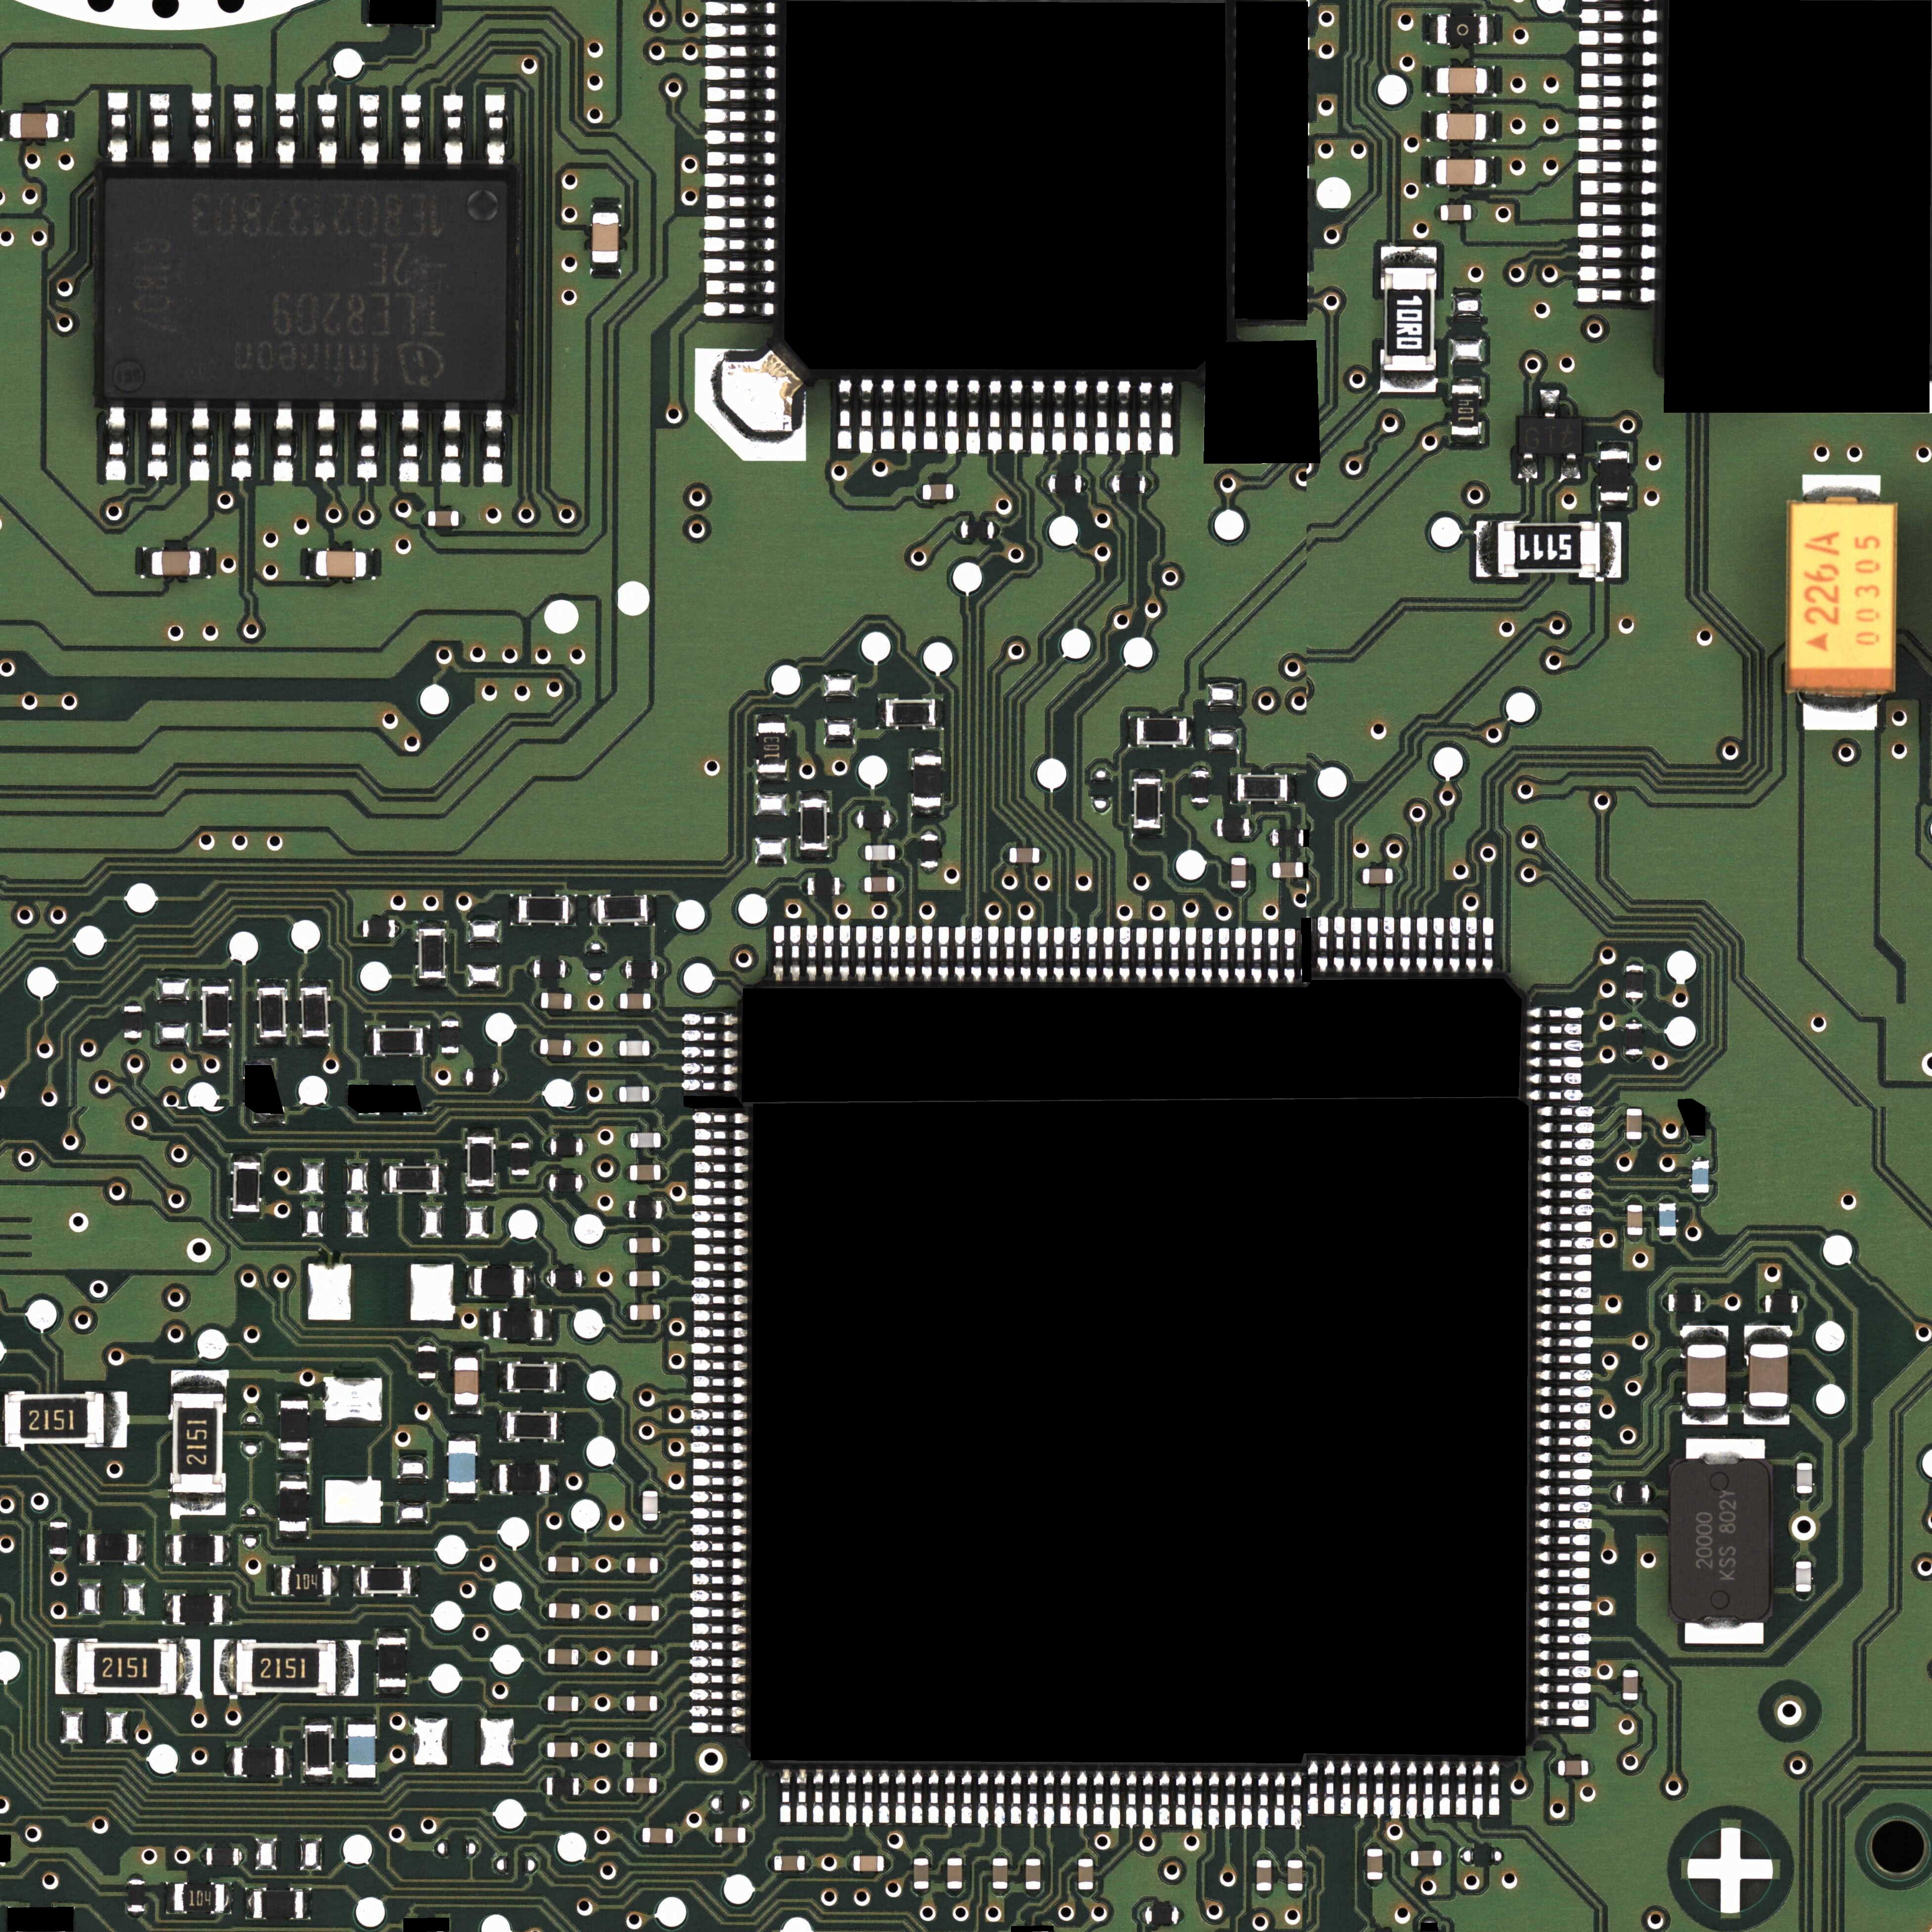Package: (106, 180, 508, 402), (1789, 504, 1897, 692), (1668, 1460, 1771, 1621), (1382, 269, 1435, 372), (1499, 522, 1599, 575), (5, 1392, 103, 1447), (237, 1642, 336, 1693), (172, 1394, 223, 1493), (78, 1642, 177, 1693), (1748, 1345, 1789, 1407), (1686, 1345, 1727, 1407), (1518, 418, 1582, 453), (448, 1440, 476, 1493), (757, 722, 786, 773), (913, 755, 941, 807), (1437, 16, 1488, 44), (1451, 384, 1479, 435), (349, 1725, 375, 1778), (87, 1534, 136, 1562), (494, 1311, 543, 1339), (280, 1481, 308, 1530), (379, 1637, 407, 1686), (280, 1401, 308, 1451), (474, 1269, 524, 1297), (1599, 451, 1628, 501), (173, 1884, 225, 1911), (317, 550, 366, 577), (800, 800, 826, 849), (593, 212, 619, 262), (281, 1568, 331, 1594), (234, 1748, 283, 1775), (373, 1028, 423, 1054), (253, 1891, 303, 1918), (499, 1465, 548, 1491), (173, 1536, 223, 1562), (202, 985, 228, 1035), (467, 1136, 494, 1185), (173, 1596, 223, 1622), (508, 1414, 557, 1440), (258, 987, 285, 1037), (301, 987, 327, 1037), (508, 1364, 557, 1391), (234, 1162, 260, 1212), (1238, 775, 1288, 801), (1138, 718, 1187, 745), (1437, 67, 1486, 94), (1134, 778, 1161, 828), (1437, 113, 1486, 140), (9, 113, 58, 138), (419, 929, 444, 978), (598, 897, 648, 922), (518, 897, 568, 922), (886, 701, 936, 725), (361, 1568, 410, 1592), (389, 1166, 439, 1191), (306, 1725, 331, 1775), (1437, 159, 1486, 184), (152, 550, 200, 575), (455, 1359, 478, 1405), (807, 876, 840, 895), (628, 1200, 662, 1219), (1113, 474, 1146, 494), (1624, 964, 1644, 998), (418, 1346, 437, 1378), (920, 835, 939, 867), (1049, 474, 1081, 494), (961, 520, 994, 538), (533, 961, 566, 978), (124, 1005, 142, 1039), (465, 1069, 499, 1086), (1145, 1905, 1178, 1923), (858, 810, 890, 828), (626, 1649, 658, 1667), (550, 1173, 582, 1191), (511, 1143, 529, 1175), (50, 1522, 67, 1553), (127, 1879, 145, 1911), (550, 1138, 582, 1155), (547, 1776, 579, 1794), (207, 1847, 239, 1865), (626, 961, 658, 978), (441, 1021, 458, 1053), (363, 920, 395, 938), (1191, 771, 1208, 803), (1217, 819, 1249, 837), (1668, 1293, 1700, 1311), (1691, 1161, 1709, 1192), (1617, 1484, 1649, 1502), (1624, 1023, 1642, 1054), (1766, 1295, 1798, 1313), (1272, 830, 1304, 847), (1660, 1203, 1675, 1237), (428, 510, 458, 527), (626, 1741, 656, 1759), (619, 993, 651, 1008), (922, 485, 954, 501), (863, 876, 895, 892), (853, 1856, 885, 1872), (993, 1858, 1008, 1890), (540, 1039, 571, 1054), (550, 1270, 582, 1286), (626, 1695, 658, 1711), (626, 1557, 658, 1573), (547, 1741, 579, 1757), (1008, 847, 1040, 863), (947, 1858, 962, 1890), (1410, 1851, 1442, 1867), (1256, 1859, 1272, 1891), (1626, 1108, 1642, 1139), (541, 993, 571, 1008), (865, 844, 895, 860), (630, 1270, 660, 1286), (630, 1237, 660, 1253), (913, 1858, 929, 1888), (630, 1304, 660, 1320), (548, 1603, 579, 1619), (628, 1605, 658, 1621), (548, 1557, 579, 1573), (548, 1649, 579, 1665), (619, 1040, 649, 1056), (619, 1086, 649, 1102), (715, 1828, 745, 1844), (630, 1164, 660, 1180), (626, 1778, 656, 1794), (630, 1132, 660, 1148), (642, 1491, 658, 1522), (642, 1828, 672, 1844), (1440, 205, 1470, 221), (1362, 869, 1392, 885), (1368, 1849, 1384, 1879), (1559, 1760, 1589, 1776), (1077, 1859, 1093, 1890), (1796, 1562, 1812, 1592), (1628, 1205, 1644, 1235), (1796, 1463, 1812, 1493), (1622, 1670, 1638, 1700), (1288, 1859, 1302, 1891), (1272, 863, 1304, 878), (775, 1856, 805, 1870), (548, 1697, 579, 1711), (1231, 858, 1246, 888), (1026, 1859, 1040, 1890)
Solder: (695, 347, 805, 464), (1803, 695, 1877, 731), (1803, 474, 1881, 502), (1684, 1621, 1764, 1644), (1686, 1438, 1766, 1460), (442, 92, 464, 168), (104, 405, 126, 481), (317, 92, 338, 166), (191, 92, 212, 166), (400, 92, 421, 166), (108, 90, 129, 165), (359, 94, 380, 166), (485, 94, 506, 166), (442, 407, 462, 485), (483, 407, 502, 485), (274, 407, 294, 483), (400, 407, 419, 483), (150, 92, 170, 166), (234, 92, 253, 166), (232, 407, 251, 481), (149, 407, 168, 481), (276, 92, 295, 166), (317, 407, 336, 481), (357, 407, 377, 479), (191, 407, 209, 483), (177, 1638, 200, 1697), (336, 1640, 359, 1697), (170, 1493, 226, 1516), (104, 1391, 127, 1447), (172, 1369, 226, 1392), (1580, 180, 1658, 196), (1578, 244, 1656, 260), (1578, 265, 1656, 281), (55, 1638, 76, 1695), (1380, 372, 1437, 393), (1476, 520, 1497, 577), (214, 1640, 235, 1695), (1380, 246, 1437, 265), (1582, 9, 1660, 23), (1580, 30, 1658, 44), (1582, 51, 1660, 65), (1580, 115, 1658, 129), (1580, 94, 1658, 108), (1580, 73, 1658, 87), (1578, 202, 1656, 216), (1578, 223, 1656, 237), (1580, 138, 1658, 152), (1578, 159, 1656, 173), (1578, 288, 1656, 303), (1053, 379, 1067, 455), (1074, 379, 1088, 455), (1601, 522, 1621, 577), (1159, 380, 1173, 455), (1138, 380, 1152, 455), (1116, 380, 1131, 455), (1095, 380, 1109, 455), (1031, 379, 1046, 453), (987, 379, 1001, 453), (966, 379, 980, 453), (945, 379, 959, 453), (902, 379, 916, 453), (860, 379, 874, 453), (924, 379, 938, 451), (704, 280, 777, 294), (837, 379, 851, 449), (706, 2, 777, 16), (706, 23, 777, 37), (706, 44, 777, 58), (706, 65, 777, 80), (706, 87, 777, 101), (706, 108, 777, 122), (706, 129, 777, 143), (706, 150, 777, 165), (704, 173, 775, 188), (704, 195, 775, 209), (706, 216, 777, 230), (706, 237, 777, 251), (1681, 1325, 1729, 1345), (1010, 379, 1023, 453), (704, 260, 777, 272), (704, 303, 777, 315), (881, 379, 893, 449), (1744, 1325, 1792, 1343), (1744, 1407, 1790, 1424), (1683, 1407, 1729, 1424), (692, 1343, 748, 1357), (692, 1309, 748, 1323), (683, 1062, 738, 1076), (694, 1161, 748, 1175), (694, 1210, 748, 1224), (692, 1359, 747, 1373), (694, 1293, 748, 1307), (692, 1507, 747, 1522), (692, 1573, 747, 1587), (692, 1622, 747, 1637), (692, 1474, 747, 1488), (694, 1490, 747, 1504), (1109, 1771, 1122, 1829), (692, 1228, 748, 1240), (692, 1327, 748, 1339), (690, 1640, 747, 1652), (690, 1656, 747, 1668), (692, 1442, 748, 1454), (872, 925, 885, 982), (888, 925, 901, 982), (987, 925, 1000, 982), (1118, 925, 1131, 982), (1152, 925, 1164, 982), (1235, 927, 1247, 984), (1449, 916, 1461, 973), (1537, 1171, 1594, 1184), (1537, 1187, 1594, 1200), (1536, 1320, 1592, 1332), (1536, 1451, 1592, 1463), (1536, 1500, 1592, 1513), (1534, 1583, 1591, 1596), (683, 1014, 738, 1026), (683, 1030, 738, 1042), (683, 1046, 738, 1058), (683, 1079, 738, 1092), (694, 1113, 748, 1125), (694, 1129, 748, 1141), (694, 1145, 748, 1157), (694, 1178, 748, 1191), (694, 1261, 748, 1274), (694, 1244, 748, 1256), (694, 1194, 748, 1207), (692, 1376, 747, 1389), (692, 1392, 747, 1405), (692, 1408, 747, 1421), (692, 1426, 747, 1438), (694, 1277, 748, 1290), (692, 1525, 747, 1537), (692, 1541, 747, 1553), (692, 1557, 747, 1569), (692, 1591, 747, 1603), (692, 1606, 747, 1619), (692, 1674, 747, 1686), (692, 1458, 747, 1470), (692, 1690, 747, 1702), (692, 1706, 747, 1718), (692, 1723, 747, 1736), (961, 1769, 973, 1824), (1060, 1769, 1072, 1824), (1274, 1771, 1286, 1826), (1537, 1221, 1592, 1233), (1537, 1286, 1592, 1299), (1537, 1336, 1592, 1348), (1537, 1484, 1592, 1497), (1536, 1633, 1591, 1645), (1536, 1534, 1591, 1546), (1339, 1760, 1352, 1813), (846, 1767, 856, 1826), (863, 1767, 874, 1826), (945, 1769, 955, 1828), (978, 1769, 989, 1828), (994, 1769, 1005, 1828), (1127, 1771, 1138, 1829), (1143, 1771, 1154, 1829), (1224, 1771, 1235, 1829), (1208, 1771, 1219, 1829), (1192, 1771, 1203, 1829), (1242, 1771, 1253, 1829), (1258, 1771, 1269, 1829), (1391, 1760, 1401, 1819), (1407, 1760, 1417, 1819), (1373, 1760, 1384, 1819), (1357, 1760, 1368, 1819), (1422, 1760, 1433, 1819), (1472, 1760, 1483, 1819), (1028, 1771, 1039, 1828), (1044, 1771, 1054, 1828), (1077, 1771, 1088, 1828), (1292, 1773, 1302, 1829), (773, 925, 784, 982), (789, 925, 800, 982), (807, 925, 817, 982), (823, 925, 833, 982), (840, 925, 851, 982), (856, 925, 867, 982), (1005, 925, 1016, 982), (971, 925, 982, 982), (954, 925, 964, 982), (938, 925, 948, 982), (922, 925, 932, 982), (906, 925, 916, 982), (1021, 925, 1031, 982), (1037, 925, 1047, 982), (1053, 925, 1063, 982), (1070, 925, 1081, 982), (1086, 925, 1097, 982), (1102, 925, 1113, 982), (1136, 925, 1146, 982), (1169, 927, 1180, 984), (1185, 925, 1196, 982), (1269, 927, 1279, 984), (1201, 927, 1212, 984), (1219, 927, 1230, 984), (1253, 927, 1263, 984), (1284, 927, 1295, 984), (1334, 916, 1345, 973), (1350, 916, 1361, 973), (1368, 916, 1378, 973), (1384, 916, 1394, 973), (1399, 916, 1410, 973), (1318, 916, 1329, 973), (1417, 916, 1428, 973), (1433, 916, 1444, 973), (1467, 916, 1477, 973), (1483, 916, 1493, 973), (1527, 1040, 1583, 1051), (1527, 1056, 1583, 1067), (1537, 1106, 1594, 1116), (1537, 1123, 1594, 1134), (1537, 1139, 1594, 1150), (1537, 1155, 1594, 1166), (1537, 1205, 1594, 1215), (1536, 1254, 1592, 1265), (1536, 1468, 1592, 1479), (1536, 1385, 1592, 1396), (1536, 1403, 1592, 1414), (1536, 1435, 1592, 1445), (1534, 1568, 1591, 1578), (1534, 1601, 1591, 1612), (1534, 1617, 1591, 1628), (1534, 1651, 1591, 1661), (1534, 1684, 1591, 1695), (1534, 1716, 1591, 1727), (780, 1767, 791, 1822), (796, 1767, 807, 1822), (814, 1767, 824, 1822), (830, 1767, 840, 1822), (895, 1769, 906, 1824), (911, 1769, 922, 1824), (929, 1769, 939, 1824), (1010, 1769, 1021, 1824), (1456, 1760, 1467, 1815), (1488, 1760, 1499, 1815), (1527, 1007, 1582, 1017), (1527, 1024, 1582, 1035), (1527, 1074, 1582, 1085), (1527, 1090, 1582, 1100), (1537, 1238, 1592, 1249), (1537, 1270, 1592, 1281), (1537, 1304, 1592, 1315), (1537, 1353, 1592, 1364), (1537, 1369, 1592, 1380), (1536, 1667, 1591, 1677), (1536, 1700, 1591, 1711), (1536, 1518, 1591, 1529), (1536, 1552, 1591, 1562), (1560, 453, 1582, 479), (879, 1769, 890, 1822), (1093, 1771, 1104, 1824), (1159, 1771, 1169, 1824), (1177, 1771, 1187, 1824), (1307, 1760, 1318, 1813), (1323, 1760, 1334, 1813), (1440, 1760, 1451, 1813), (1537, 1419, 1591, 1430), (1539, 389, 1559, 418), (1518, 453, 1537, 479), (449, 1405, 481, 1415), (524, 1267, 534, 1297), (1426, 156, 1437, 186), (1426, 65, 1437, 96), (1486, 156, 1497, 186), (1486, 111, 1497, 142), (1426, 111, 1437, 142), (1426, 14, 1437, 42), (364, 1024, 373, 1056), (451, 1348, 483, 1357), (448, 1431, 479, 1440), (257, 1037, 288, 1046), (299, 1037, 331, 1046), (257, 978, 288, 987), (375, 1686, 407, 1695), (163, 1592, 172, 1624), (223, 1592, 232, 1624), (78, 1532, 87, 1564), (352, 1564, 361, 1596), (303, 1775, 334, 1783), (165, 1534, 173, 1566), (303, 1888, 311, 1920), (278, 1530, 310, 1539), (278, 1451, 310, 1460), (798, 849, 830, 858), (798, 791, 830, 800), (510, 893, 518, 925), (499, 1361, 508, 1392), (1131, 828, 1162, 837), (1451, 435, 1483, 444), (253, 1115, 285, 1123), (58, 110, 67, 140), (0, 110, 9, 140), (416, 920, 446, 929), (465, 1127, 495, 1136), (465, 1267, 474, 1297), (423, 1026, 432, 1056), (416, 978, 446, 987), (301, 978, 331, 987), (439, 1164, 448, 1194), (165, 1882, 173, 1913), (331, 1566, 340, 1596), (490, 1463, 499, 1493), (225, 1746, 234, 1776), (136, 1534, 145, 1564), (589, 895, 598, 925), (757, 773, 787, 782), (911, 807, 941, 816), (485, 1309, 494, 1339), (543, 1309, 552, 1339), (1132, 770, 1162, 778), (1127, 717, 1136, 747), (1488, 14, 1497, 44), (1488, 65, 1497, 96), (1599, 442, 1629, 451), (1599, 501, 1629, 510), (568, 895, 577, 924), (200, 1037, 232, 1044), (230, 1212, 262, 1219), (230, 1154, 262, 1161), (446, 1493, 478, 1500), (272, 1564, 280, 1596), (345, 1716, 377, 1723), (345, 1778, 377, 1785), (225, 1534, 232, 1566), (303, 1718, 334, 1725), (410, 1566, 418, 1598), (377, 1629, 409, 1637), (278, 1472, 310, 1479), (755, 715, 787, 722), (878, 697, 885, 729), (499, 1410, 506, 1442), (550, 1463, 557, 1495), (1451, 377, 1483, 384), (308, 548, 315, 579), (366, 548, 373, 579), (465, 1187, 495, 1194), (202, 978, 232, 985), (285, 1746, 292, 1776), (246, 1888, 253, 1918), (225, 1882, 232, 1913), (591, 205, 621, 212), (936, 699, 943, 729), (557, 1362, 564, 1392), (557, 1412, 564, 1442), (1288, 773, 1295, 803), (1230, 773, 1237, 803), (1187, 717, 1194, 747), (244, 1058, 274, 1065), (143, 548, 150, 577), (382, 1164, 389, 1192), (913, 748, 941, 755), (648, 895, 655, 924), (658, 1603, 667, 1622), (656, 1776, 665, 1796), (589, 264, 621, 269), (202, 548, 207, 579), (280, 1394, 310, 1399), (50, 1553, 67, 1562), (198, 1847, 207, 1865), (660, 1270, 669, 1288), (660, 1132, 669, 1150), (660, 1164, 669, 1182), (656, 1695, 665, 1713), (540, 1647, 548, 1665), (656, 1741, 665, 1759), (1366, 1879, 1384, 1888), (1690, 1136, 1707, 1145), (1626, 1139, 1644, 1148), (649, 1040, 658, 1056), (745, 1828, 754, 1844), (840, 878, 847, 897), (662, 1200, 669, 1219), (640, 1522, 660, 1529), (621, 1603, 628, 1622), (1658, 1235, 1677, 1242), (1691, 1192, 1711, 1200), (1621, 1700, 1640, 1707), (1649, 1484, 1656, 1504), (395, 920, 402, 938), (441, 1053, 458, 1060), (418, 1378, 435, 1385), (895, 844, 902, 862), (658, 961, 665, 978), (801, 878, 809, 895), (525, 961, 533, 978), (851, 810, 858, 828), (511, 1175, 529, 1182), (543, 1269, 550, 1286), (543, 1138, 550, 1155), (612, 993, 619, 1010), (623, 1304, 630, 1322), (649, 1085, 656, 1102), (566, 961, 573, 978), (658, 1649, 665, 1667), (658, 1557, 665, 1575), (541, 1555, 548, 1573), (619, 1776, 626, 1794), (579, 1649, 586, 1667), (579, 1778, 586, 1796), (619, 1649, 626, 1667), (619, 1695, 626, 1713), (579, 1695, 586, 1713), (674, 1828, 681, 1845), (619, 1741, 626, 1759), (579, 1741, 586, 1759), (1081, 476, 1088, 494), (954, 483, 961, 501), (1355, 867, 1362, 885), (1230, 888, 1247, 895), (1392, 867, 1399, 885), (1249, 819, 1256, 837), (1191, 803, 1208, 810), (1286, 1854, 1304, 1861), (1286, 1891, 1304, 1898), (1254, 1891, 1272, 1898), (1366, 1842, 1384, 1849), (991, 1890, 1008, 1897), (1077, 1890, 1095, 1897), (1178, 1907, 1185, 1925), (1626, 1235, 1644, 1242), (1661, 1293, 1668, 1311), (1798, 1295, 1805, 1313), (1626, 1198, 1644, 1205), (1759, 1295, 1766, 1313), (1626, 1054, 1644, 1062), (1626, 998, 1644, 1005), (1550, 1759, 1557, 1776), (1796, 1456, 1813, 1463), (1796, 1493, 1813, 1500), (1610, 1484, 1617, 1502), (421, 511, 428, 527), (126, 1039, 142, 1046), (127, 1874, 143, 1881), (127, 1911, 143, 1918), (612, 1040, 619, 1056), (651, 994, 658, 1010), (571, 993, 579, 1008), (660, 1237, 667, 1253), (660, 1304, 667, 1320), (612, 1086, 619, 1102), (621, 1237, 628, 1253), (534, 993, 541, 1008), (533, 1039, 540, 1054), (582, 1175, 589, 1191), (579, 1557, 586, 1573), (846, 1856, 853, 1872), (540, 1778, 547, 1794), (619, 1557, 626, 1573), (885, 1856, 892, 1872), (805, 1856, 812, 1872), (708, 1828, 715, 1844), (635, 1828, 642, 1844), (541, 1603, 548, 1619), (1433, 203, 1440, 219), (1192, 764, 1208, 771), (1040, 847, 1047, 863), (994, 522, 1001, 538), (1024, 1852, 1040, 1859), (1256, 1852, 1272, 1859), (1077, 1852, 1093, 1859), (1403, 1851, 1410, 1867), (1442, 1851, 1449, 1867), (1026, 1890, 1042, 1897), (1472, 205, 1479, 221), (1700, 1295, 1707, 1311), (1796, 1592, 1812, 1599), (1796, 1555, 1812, 1562), (1589, 1760, 1596, 1776), (1622, 1663, 1638, 1670), (920, 867, 939, 872), (1267, 828, 1272, 847), (571, 1040, 579, 1054), (768, 1856, 775, 1870), (357, 920, 363, 938), (460, 511, 465, 529), (460, 1069, 465, 1086), (920, 830, 938, 835), (890, 810, 895, 828), (895, 876, 901, 893), (858, 876, 863, 893), (619, 961, 625, 978), (543, 1173, 548, 1191), (511, 1136, 529, 1141), (623, 1164, 628, 1182), (584, 1138, 589, 1155), (541, 1695, 547, 1713), (541, 1741, 547, 1759), (1146, 476, 1152, 494), (1210, 819, 1215, 837), (1624, 1017, 1642, 1023), (1691, 1155, 1709, 1161), (1267, 862, 1272, 879), (442, 1016, 458, 1021), (499, 1070, 504, 1086), (419, 1341, 435, 1346), (239, 1849, 244, 1865), (916, 485, 922, 501), (858, 844, 863, 860), (623, 1201, 628, 1217), (623, 1270, 628, 1286), (625, 1132, 630, 1148), (582, 1270, 587, 1286), (913, 1852, 929, 1858), (947, 1852, 962, 1858), (580, 1603, 586, 1619), (913, 1890, 929, 1895), (947, 1890, 962, 1895), (642, 1484, 658, 1490), (1108, 476, 1113, 492), (1044, 476, 1049, 492), (955, 522, 961, 538), (1003, 847, 1008, 863), (993, 1852, 1008, 1858), (1139, 1907, 1145, 1923), (1626, 959, 1642, 964), (1660, 1198, 1675, 1203), (1421, 1916, 1437, 1921), (126, 1000, 140, 1005), (51, 1516, 65, 1522), (1231, 851, 1246, 856), (308, 950, 315, 954), (1453, 294, 1456, 299)
